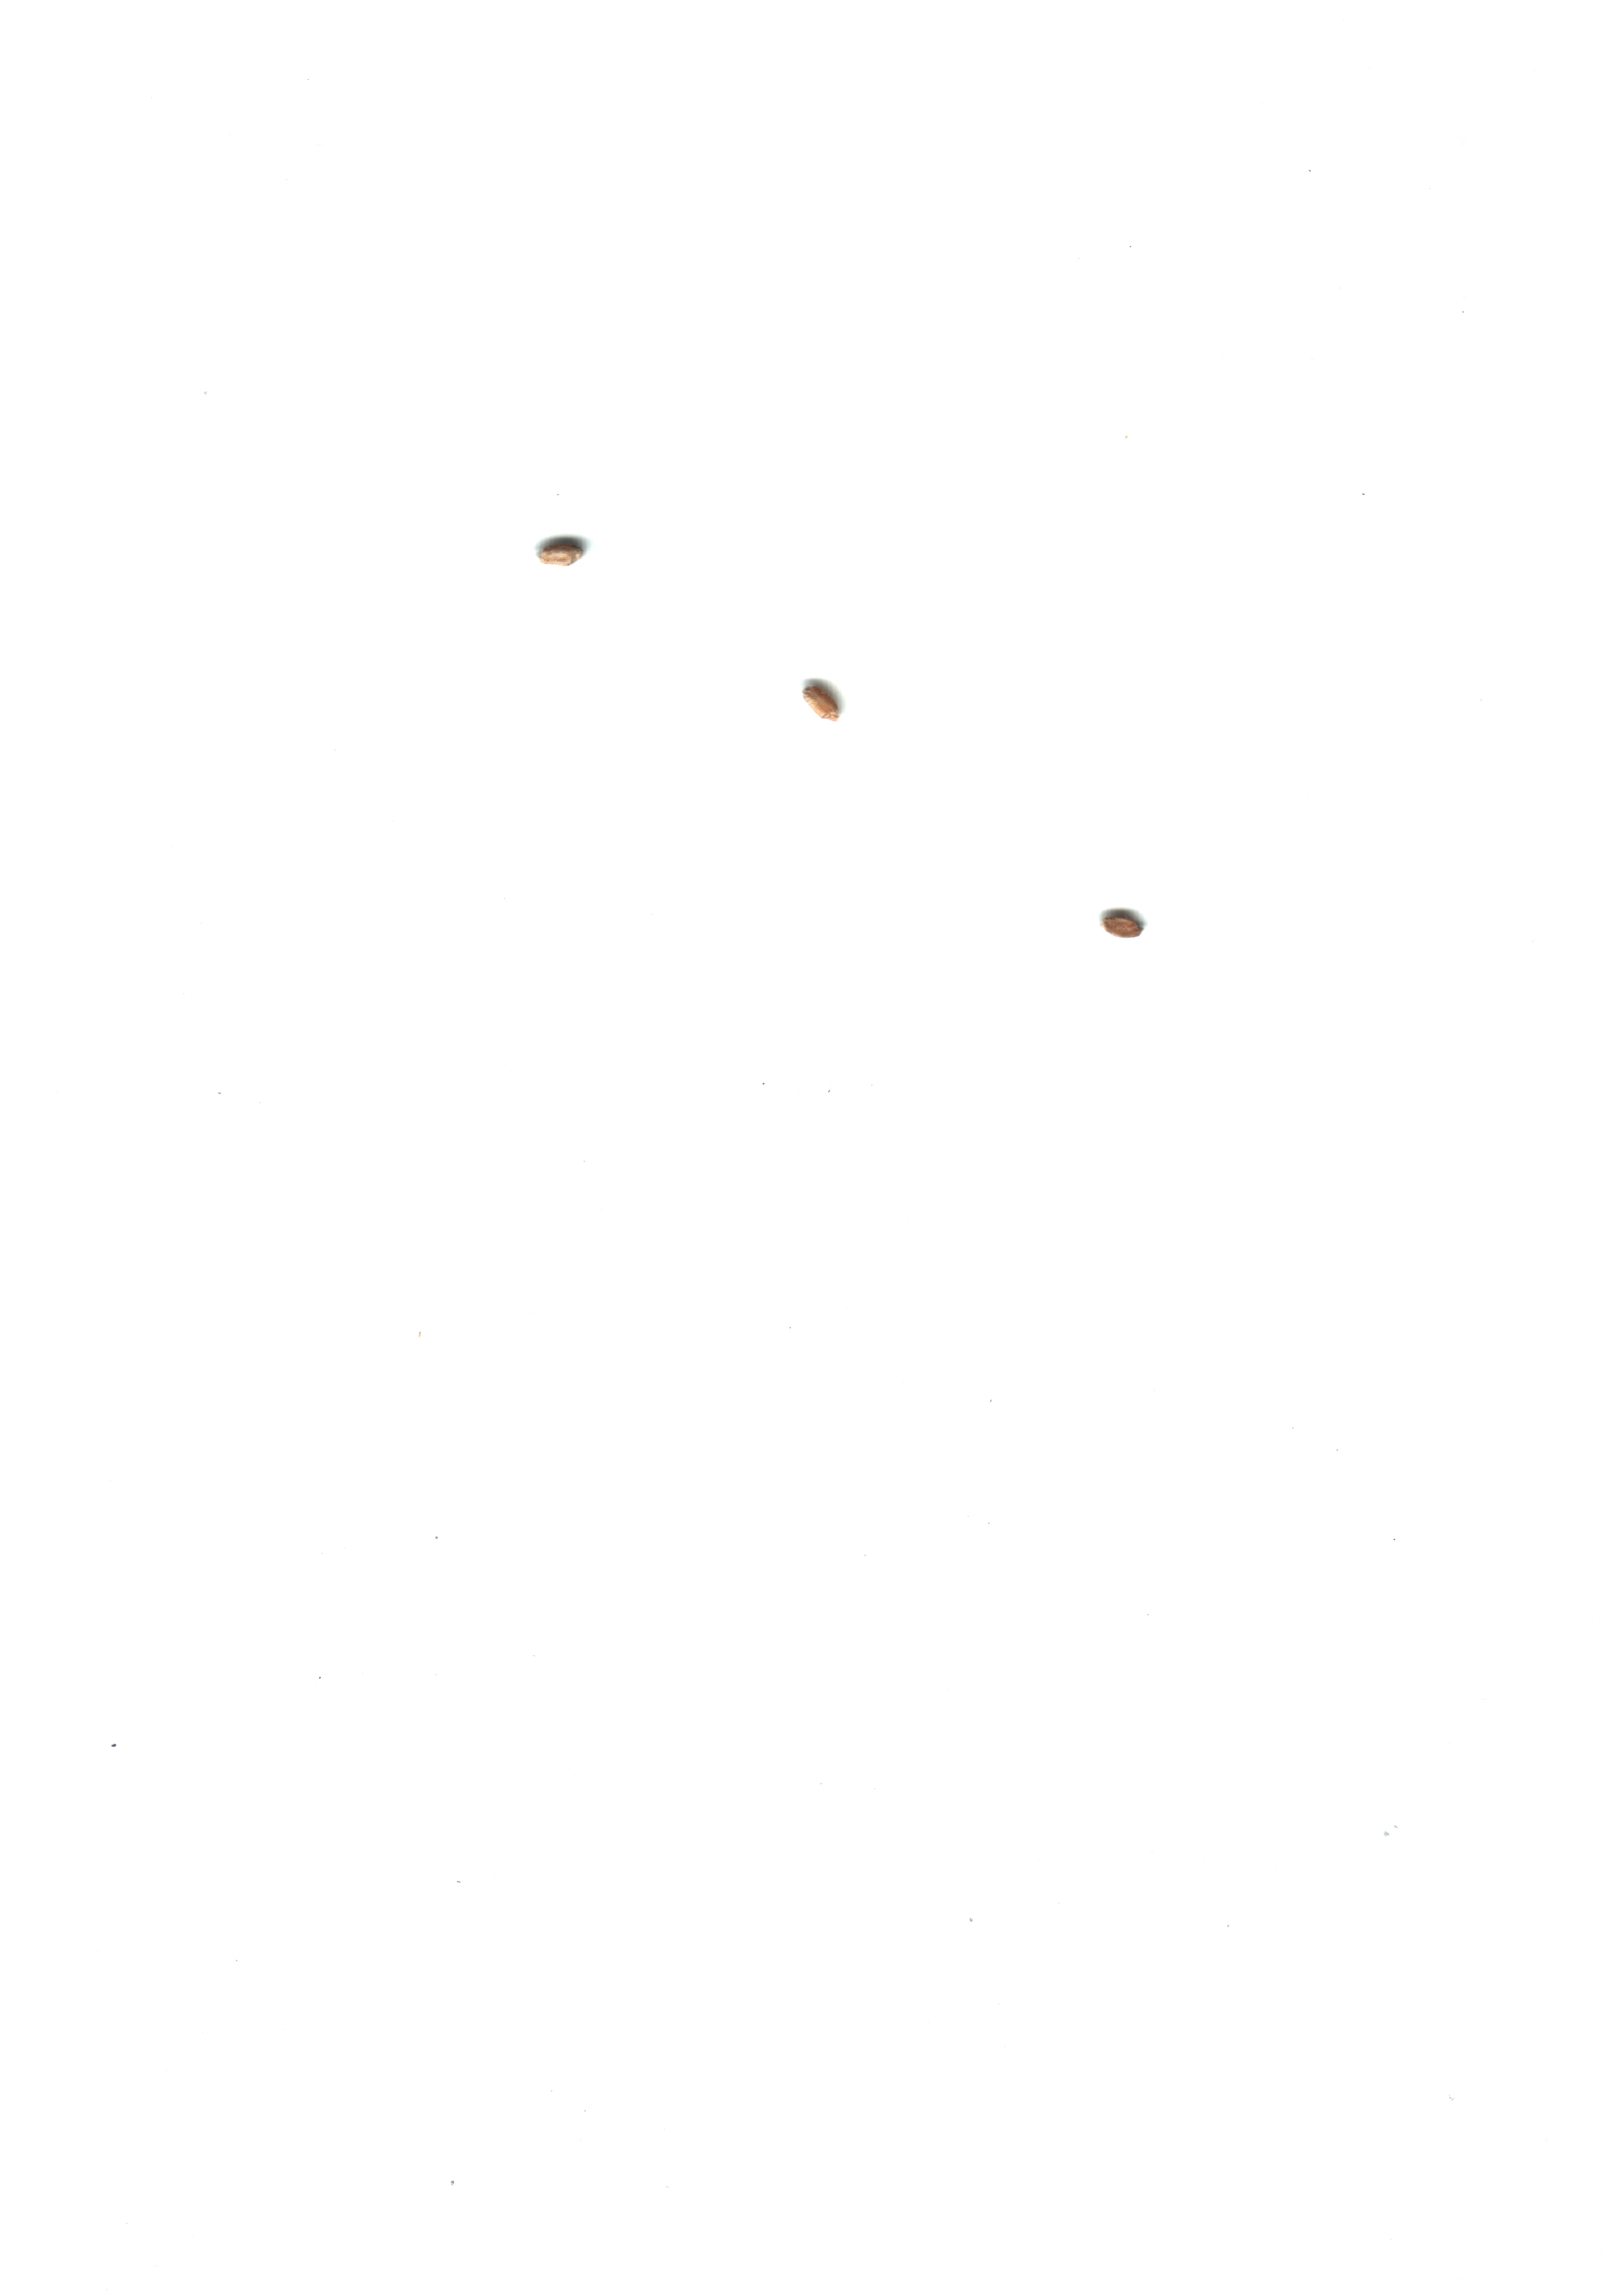grains_3mm: (1078, 880, 1172, 967), (774, 659, 869, 745), (512, 512, 606, 598)
